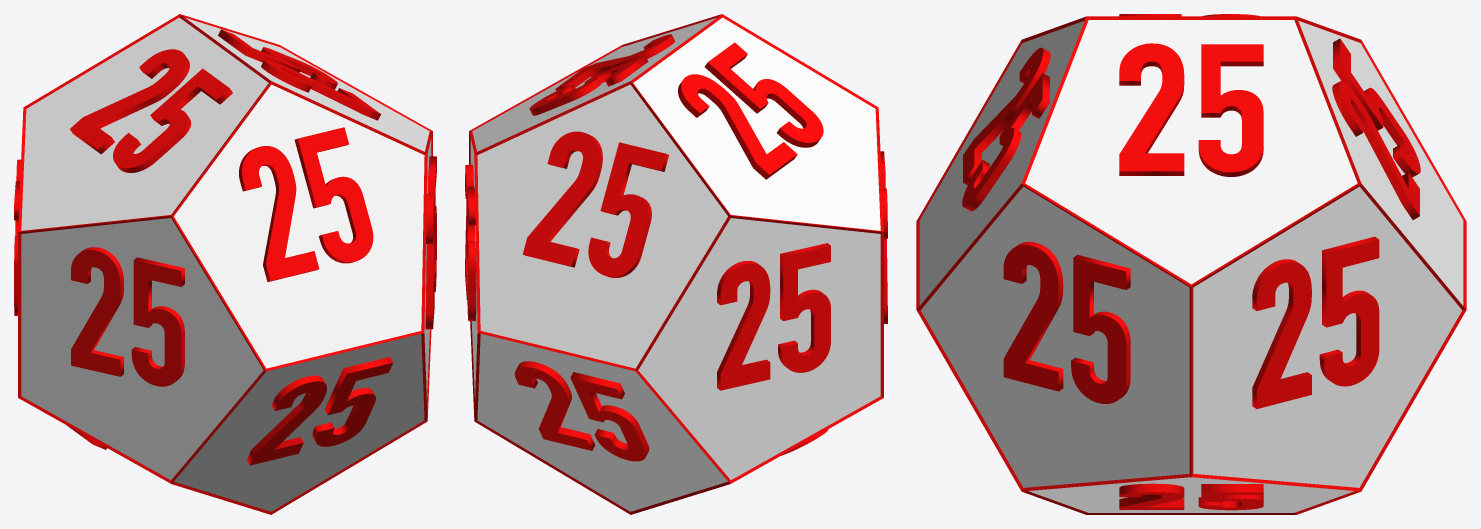
Rendered from dodecahedron_sign-25.glb.
3 renders of one model, left to right at view 1: azimuth 30°, elevation 25°; view 2: azimuth 150°, elevation 25°; view 3: azimuth 270°, elevation 25°, orthographic. The views are drawn at different scales.
Visible parts, largest first — view 1: Dodecahedron_Solid, Dodecahedron_Wire, Text20_5, Text20_11, Text20_7, Text20_10, Text20_2, Text20_6, Text20_8; view 2: Dodecahedron_Solid, Dodecahedron_Wire, Text20_0, Text20_8, Text20_7, Text20_3, Text20_2, Text20_1, Text20_11; view 3: Dodecahedron_Solid, Dodecahedron_Wire, Text20_1, Text20_2, Text20_6, Text20_0, Text20_5, Text20_4.
Boxes of the visible parts, x1,y1,x2,y2 form: Dodecahedron_Solid: (21,17,431,511); Dodecahedron_Wire: (18,14,432,514); Text20_5: (239,127,373,282); Text20_11: (71,247,184,386); Text20_7: (70,49,232,172); Text20_10: (247,357,393,465); Text20_2: (218,29,380,120); Text20_6: (425,156,436,329); Text20_8: (14,159,20,315); Dodecahedron_Solid: (470,17,880,511); Dodecahedron_Wire: (469,14,883,514); Text20_0: (522,131,668,277); Text20_8: (717,243,830,390); Text20_7: (678,42,823,179); Text20_3: (514,361,649,461); Text20_2: (529,34,674,115); Text20_1: (465,164,476,321); Text20_11: (880,151,887,323); Dodecahedron_Solid: (919,20,1463,512); Dodecahedron_Wire: (916,16,1466,514); Text20_1: (1252,236,1379,408); Text20_2: (1119,43,1263,176); Text20_6: (1003,241,1130,403); Text20_0: (1332,38,1420,219); Text20_5: (962,47,1050,211); Text20_4: (1119,483,1263,510).
Bounding box in the file's own units: 3.26 × 3.26 × 3.26.
